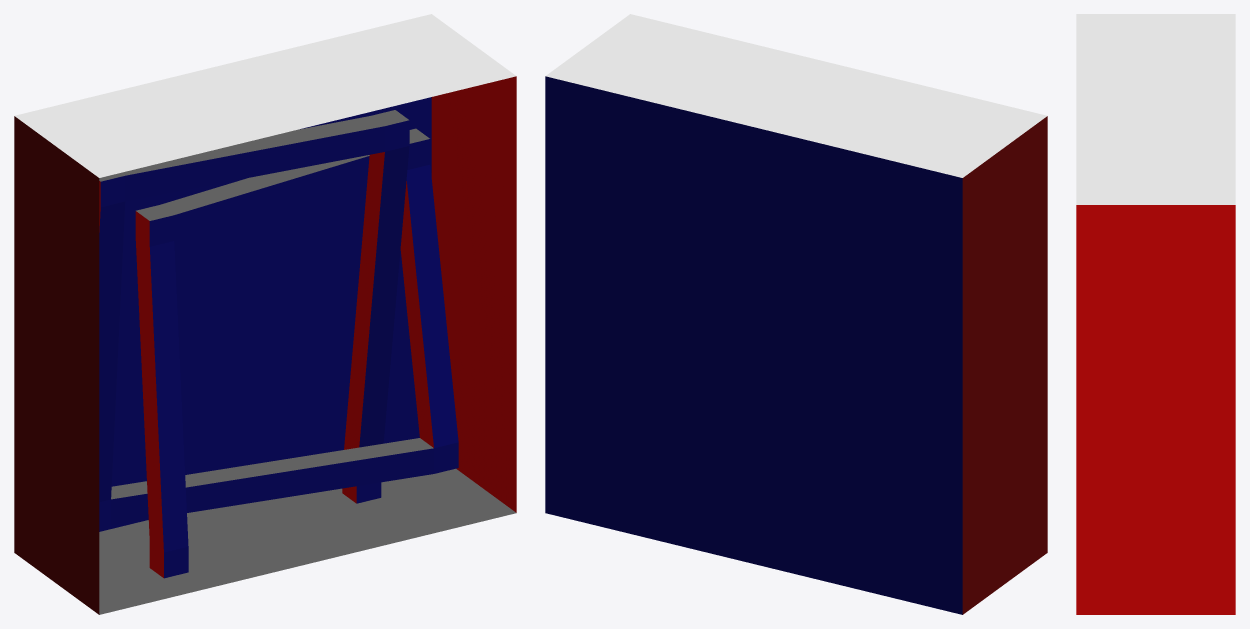
Rendered from labeled_CAD.glb.
3 renders of one model, left to right at view 1: azimuth 30°, elevation 25°; view 2: azimuth 150°, elevation 25°; view 3: azimuth 270°, elevation 25°, orthographic. The views are drawn at different scales.
Size of the model in its own units: 17 by 17 by 6.
Materials: 1 (1 with a texture image).
